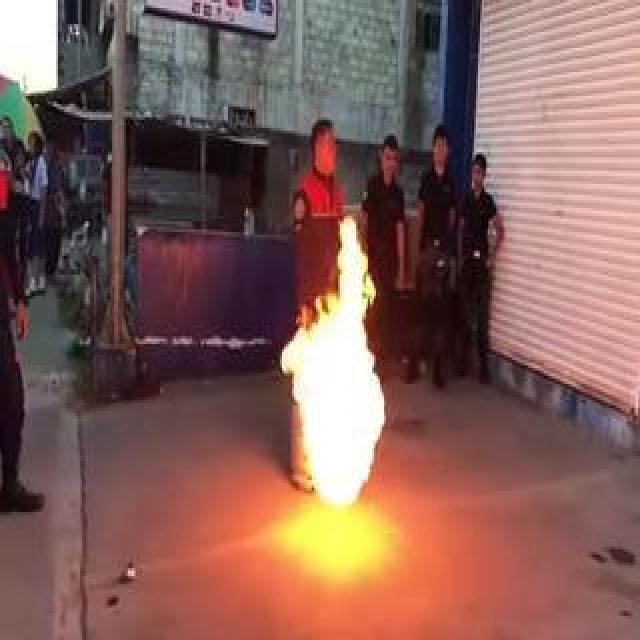Fire: (282, 218, 386, 510)
